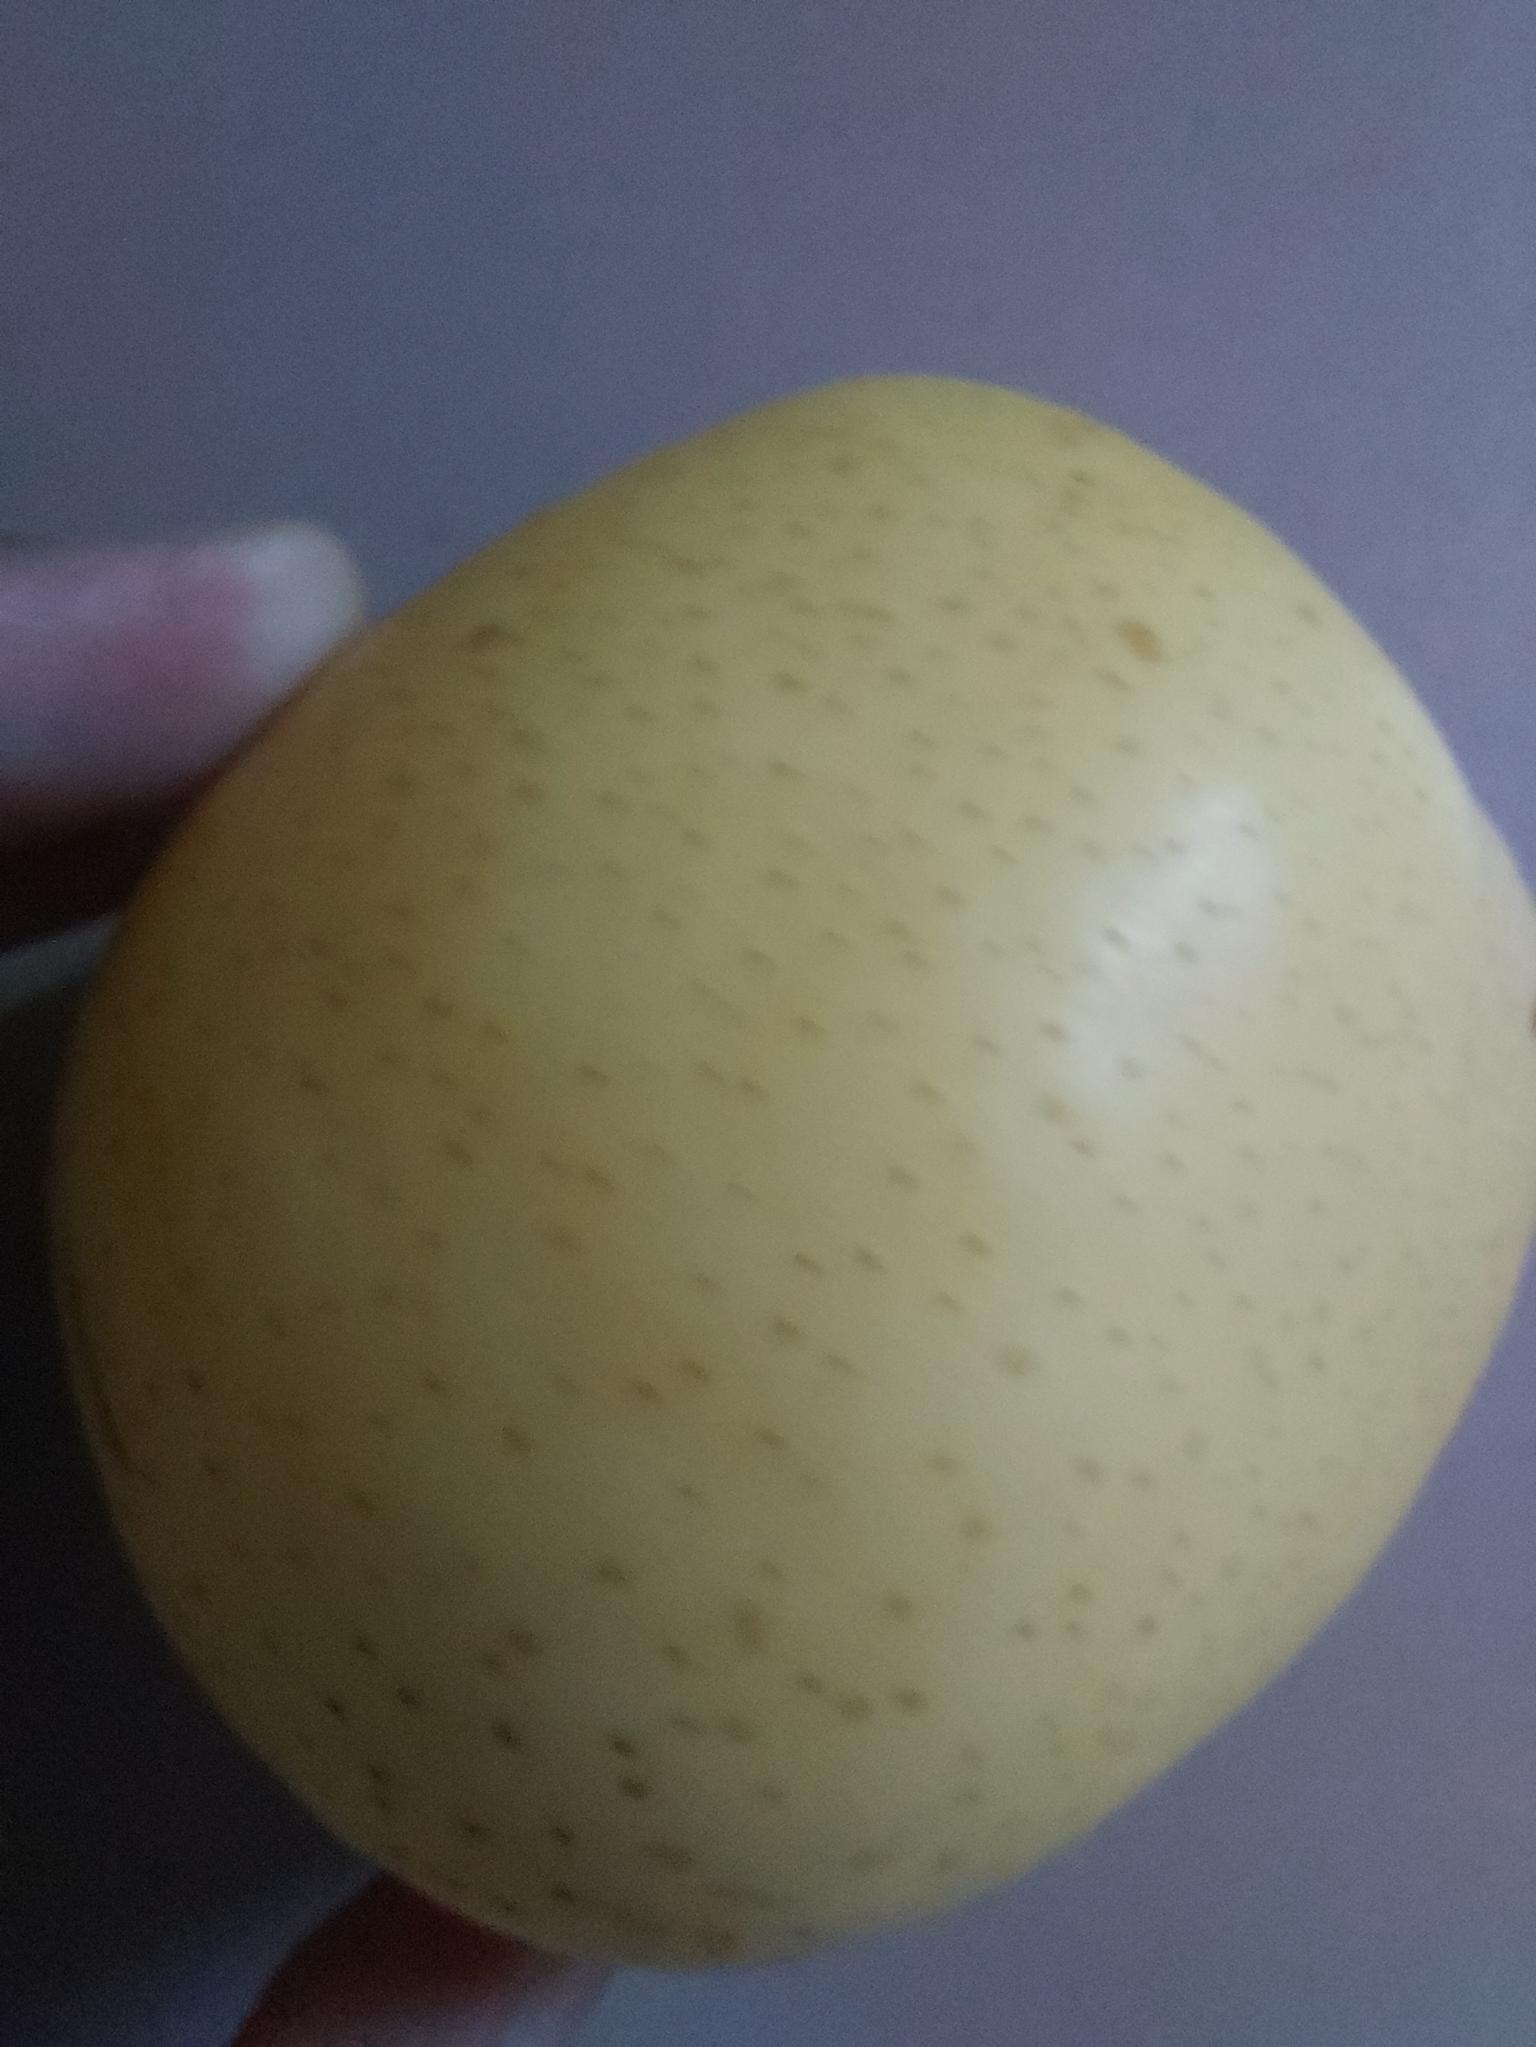Good Pear: (68, 371, 1510, 1971)
